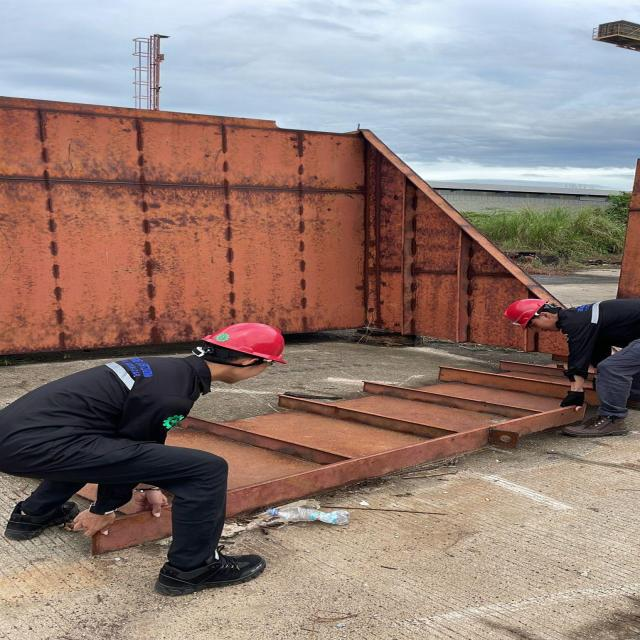safetyhelmet: (202, 323, 284, 363), (503, 299, 547, 328)
